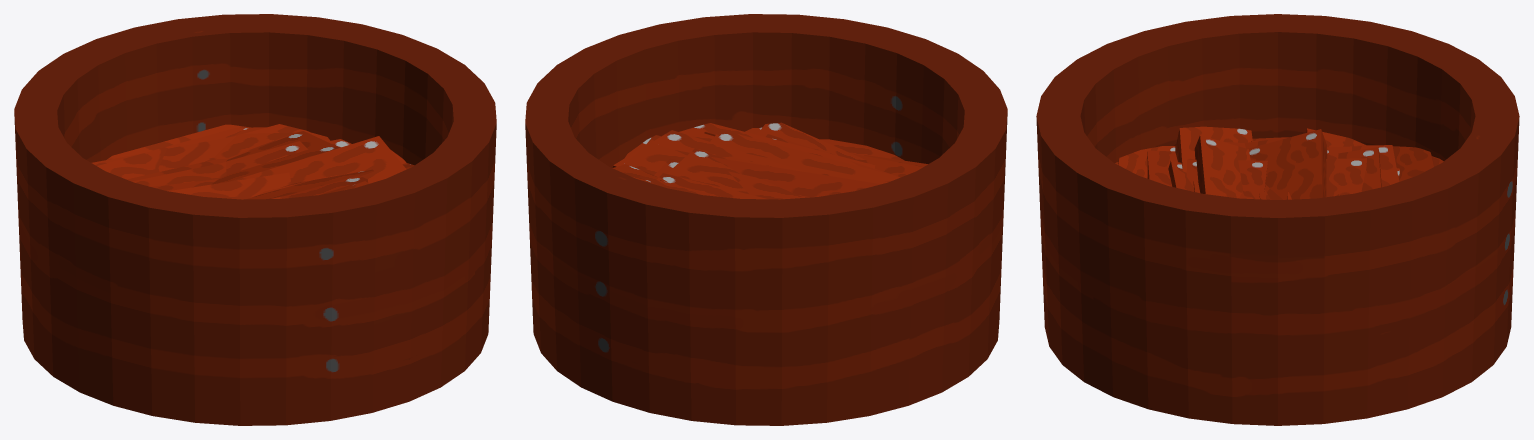
The model's file is woodStorage.fbx.
3 views of the same model, side by side, from view 1: azimuth 30°, elevation 25°; view 2: azimuth 150°, elevation 25°; view 3: azimuth 270°, elevation 25° (orthographic).
Parts seen in each view (by area): view 1: Container, Planks; view 2: Container, Planks; view 3: Container, Planks.
Boxes of the visible parts, x1,y1,x2,y2 form: Container: (14, 14, 496, 425); Planks: (92, 124, 414, 199); Container: (525, 14, 1007, 425); Planks: (612, 122, 927, 199); Container: (1036, 14, 1519, 425); Planks: (1115, 126, 1443, 199).
Bounding box in the file's own units: 270 × 130 × 270.
2 materials, 2 textured.
